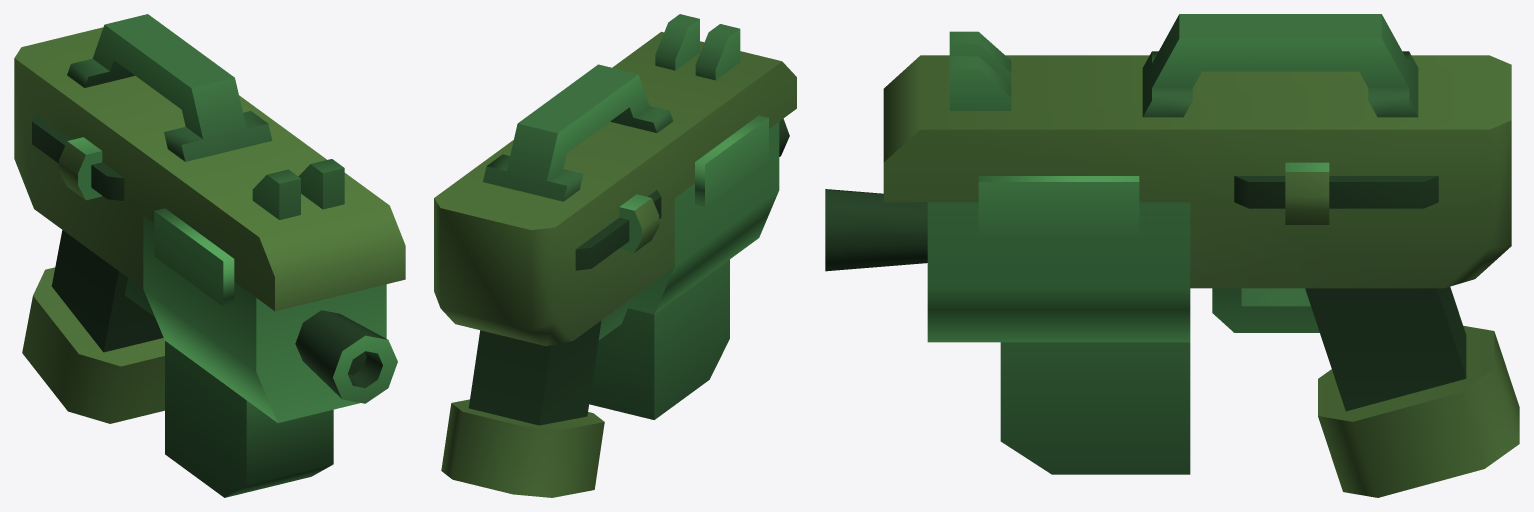
File: bubble_blaster.glb
3 renders of one model, left to right at view 1: azimuth 30°, elevation 25°; view 2: azimuth 150°, elevation 25°; view 3: azimuth 270°, elevation 25°, orthographic. The views are drawn at different scales.
Parts seen in each view (by area): view 1: blaster-c; view 2: blaster-c; view 3: blaster-c.
Part boxes in pixels (x1,y1,x2,y2): blaster-c: [14, 14, 405, 497]; blaster-c: [434, 14, 796, 497]; blaster-c: [825, 14, 1519, 497].
Size of the model in its own units: 0.1909 by 0.391 by 0.55.
Materials: 1 (1 with a texture image).
